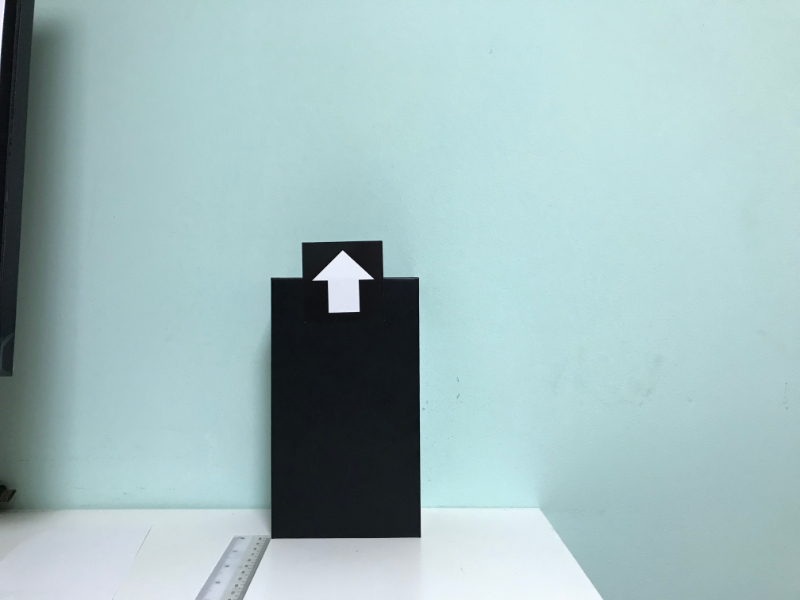UA-1: (306, 244, 382, 319)
